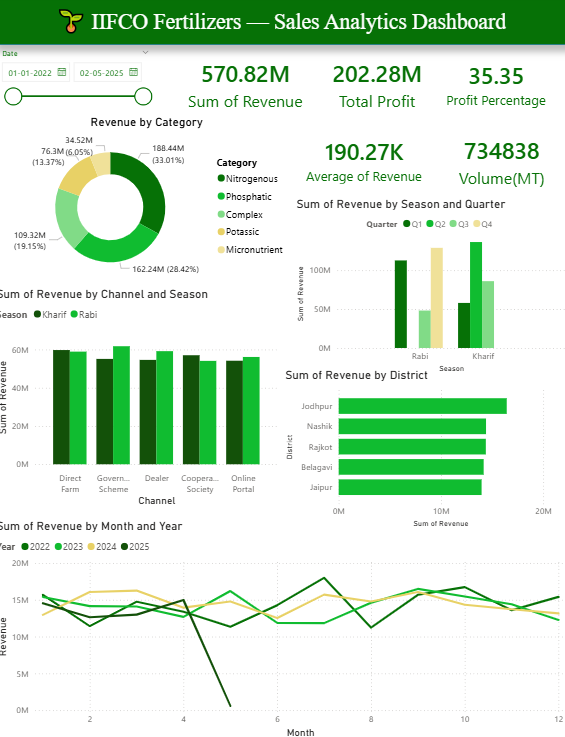

The page's visual inventory and layout, read from the dashboard file:
{"tool":"powerbi","page":{"name":"Page 1","canvas":[816,1056],"ordinal":0},"visuals":[{"type":"shape","box":[0,0,815.7,70.8],"z":0},{"type":"slicer","fields":{"Values":["Raw Data.Date"]},"box":[0,70.8,233.6,111.5],"z":1000},{"type":"cardVisual","fields":{"Data":["Sum(Raw Data.Revenue)"]},"box":[233.6,70.8,247.7,111.5],"z":2000},{"type":"cardVisual","fields":{"Data":["Sum(Raw Data.Gross_Profit)"]},"box":[447.7,70.8,192.9,111.5],"z":3000},{"type":"cardVisual","fields":{"Data":["Avg(Table 1 (Executive Dashboard).Margin%)"]},"box":[608.7,70.8,207,111.5],"z":4000},{"type":"cardVisual","fields":{"Data":["Sum(Table 1 (Executive Dashboard).Volume (MT))"]},"box":[624.6,182.3,191.1,107.9],"z":5000},{"type":"cardVisual","fields":{"Data":["Avg(Raw Data.Revenue)"]},"box":[408.7,182.3,233.6,102.6],"z":6000},{"type":"donutChart","title":"Revenue by Category","fields":{"Y":["Sum(Raw Data.Revenue)"],"Category":["Raw Data.Category"]},"box":[10.6,169.9,414.1,242.4],"z":7000},{"type":"lineChart","fields":{"Category":["Raw Data.Month"],"Y":["Sum(Raw Data.Revenue)"],"Series":["Raw Data.Year"]},"box":[0,741.4,815.7,315],"z":8000},{"type":"clusteredBarChart","fields":{"Category":["Raw Data.District"],"Y":["Sum(Raw Data.Revenue)"]},"box":[408.7,527.3,387.5,231.8],"z":9000},{"type":"clusteredColumnChart","fields":{"Category":["Raw Data.Channel"],"Y":["Sum(Raw Data.Revenue)"],"Series":["Raw Data.Season"]},"box":[0,412.3,408.7,316.7],"z":10000},{"type":"clusteredColumnChart","fields":{"Category":["Raw Data.Season"],"Y":["Sum(Raw Data.Revenue)"],"Series":["Raw Data.Quarter"]},"box":[424.7,284.9,391,254.8],"z":11000}]}

Visuals, with their boxes in screenshot pixels (x1, y1, x2, y2), scaled from the page's 816x1056 canvas onto the 565x737 screenshot:
shape: detection(0, 0, 564, 49)
slicer - Raw Data.Date: detection(0, 49, 162, 127)
cardVisual - Sum(Raw Data.Revenue): detection(162, 49, 333, 127)
cardVisual - Sum(Raw Data.Gross_Profit): detection(310, 49, 444, 127)
cardVisual - Avg(Table 1 (Executive Dashboard).Margin%): detection(421, 49, 564, 127)
cardVisual - Sum(Table 1 (Executive Dashboard).Volume (MT)): detection(432, 127, 564, 203)
cardVisual - Avg(Raw Data.Revenue): detection(283, 127, 445, 199)
"Revenue by Category" donutChart: detection(7, 119, 294, 288)
lineChart - Raw Data.Month x Sum(Raw Data.Revenue): detection(0, 517, 564, 736)
clusteredBarChart - Raw Data.District x Sum(Raw Data.Revenue): detection(283, 368, 551, 530)
clusteredColumnChart - Raw Data.Channel x Sum(Raw Data.Revenue): detection(0, 288, 283, 509)
clusteredColumnChart - Raw Data.Season x Sum(Raw Data.Revenue): detection(294, 199, 564, 377)
